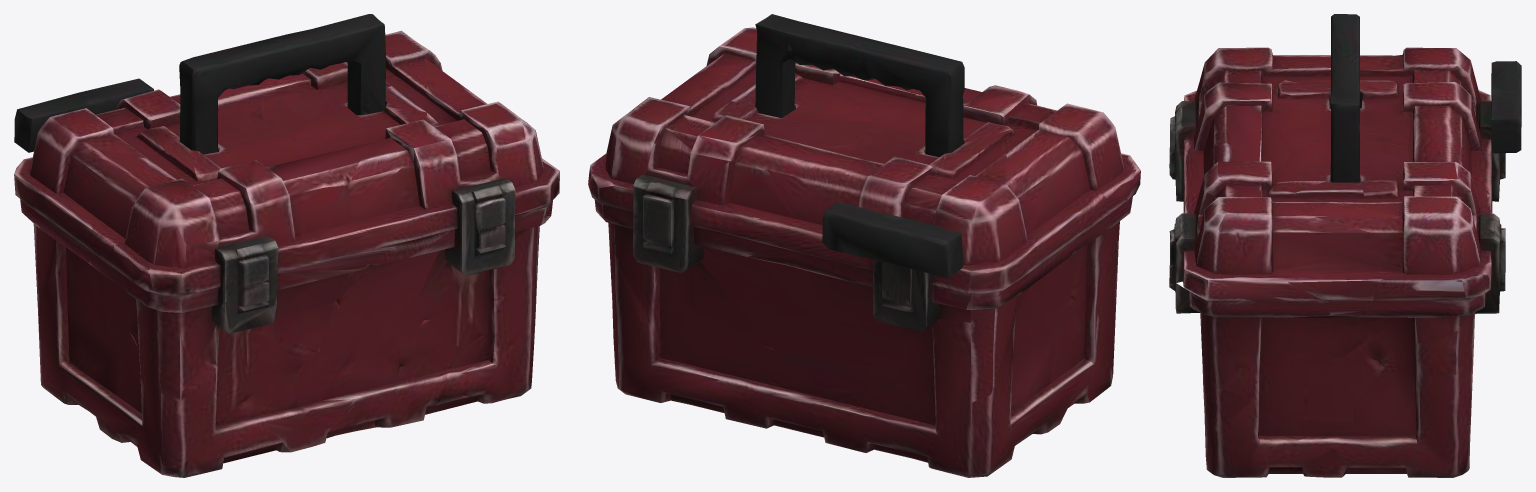
The model's file is toolbox_plastikovyy.glb.
The picture shows the model from 3 angles, left to right: view 1: azimuth 30°, elevation 25°; view 2: azimuth 150°, elevation 25°; view 3: azimuth 270°, elevation 25°; orthographic projection. The views are drawn at different scales.
Visible parts, largest first — view 1: lid, body; view 2: lid, body; view 3: lid, body.
Part boxes in pixels (x1,y1,x2,y2): lid: (14,14,559,303); body: (20,204,552,477); lid: (588,14,1140,300); body: (595,201,1132,477); lid: (1169,14,1521,308); body: (1169,163,1505,477).
Size of the model in its own units: 0.3133 by 0.2498 by 0.2384.
9 materials, 3 textured.
